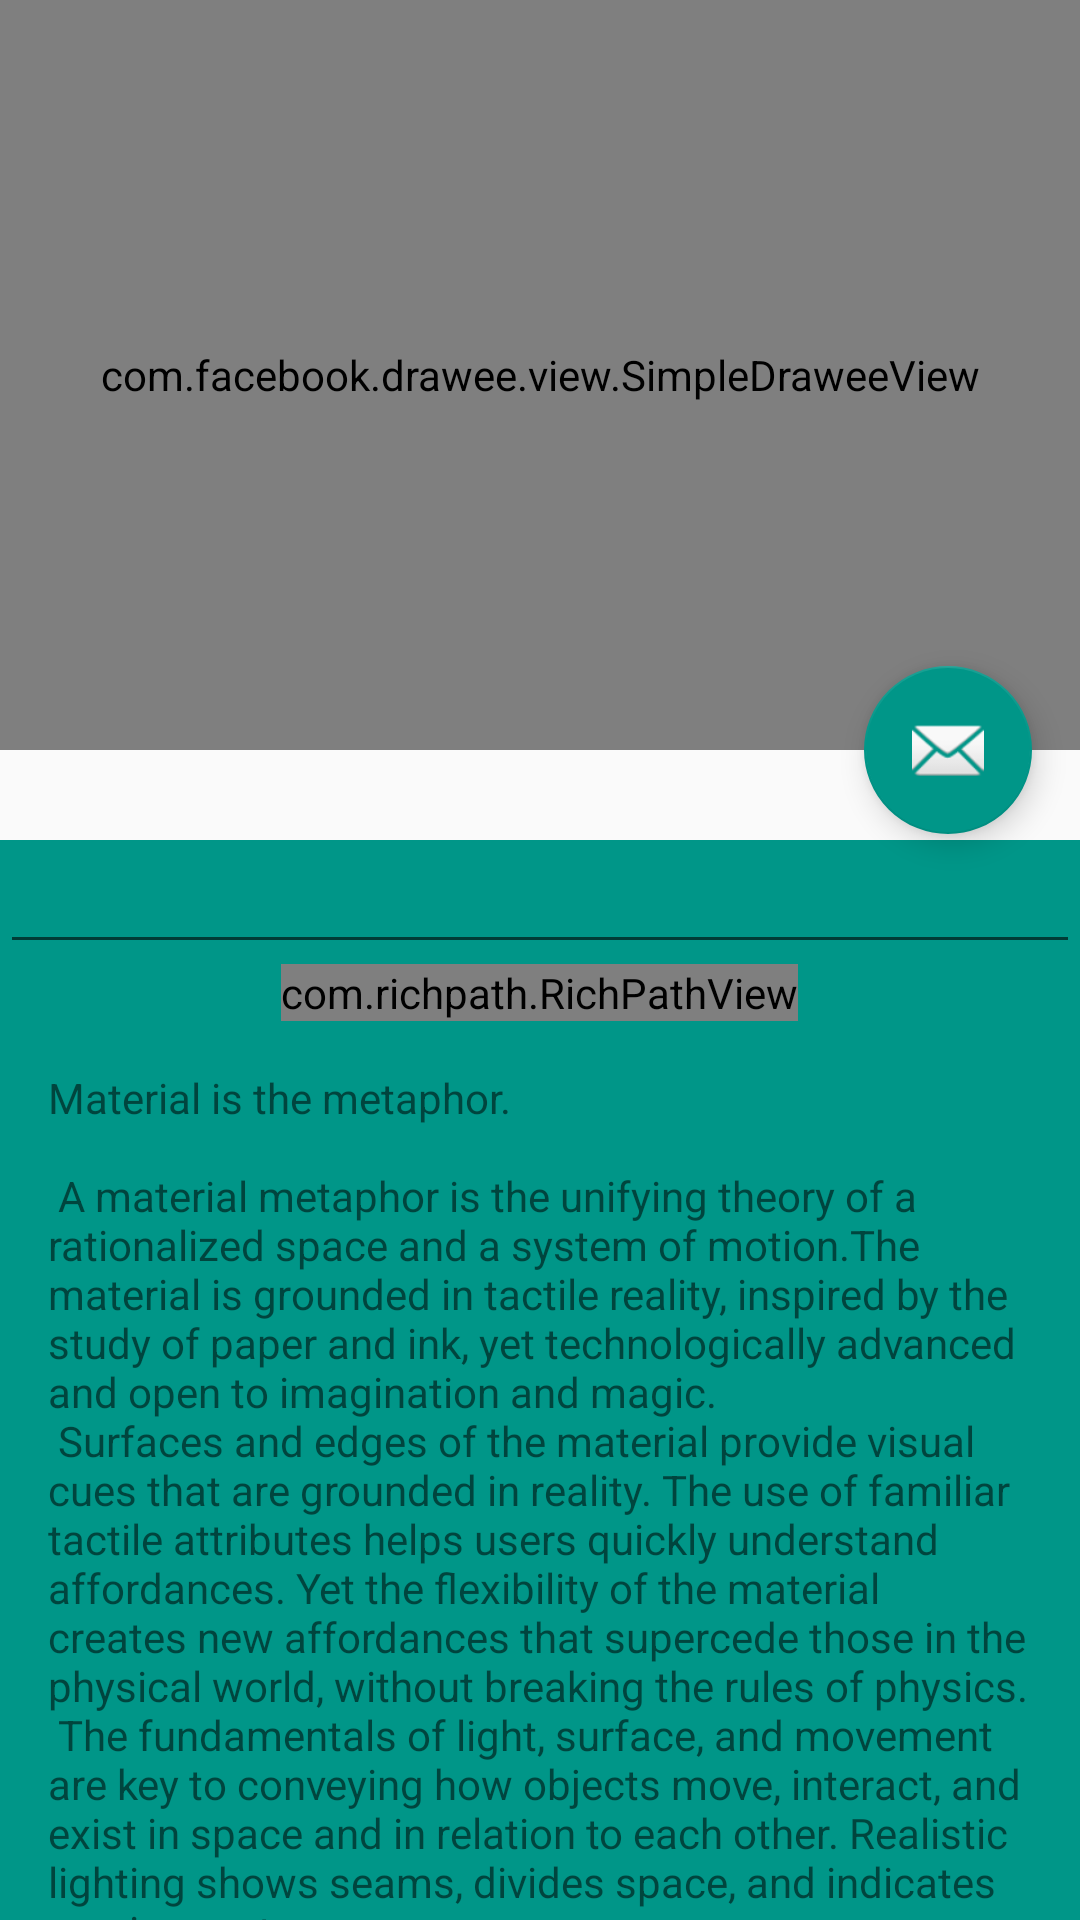

Where to tap for icons on this 1080 x 1920 app screen, as point (x, y):
email: point (948, 750)
